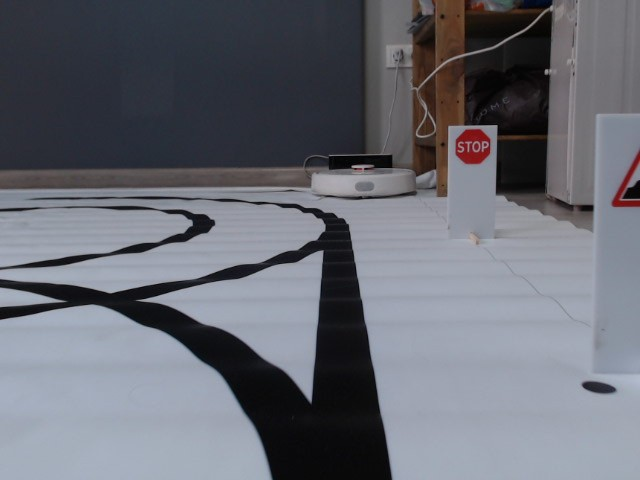Stop: (454, 128, 492, 168)
